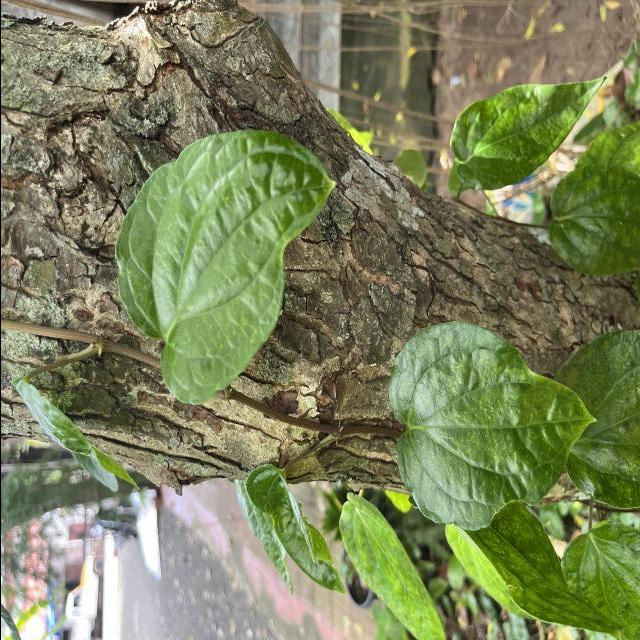Piper betle: (386, 316, 601, 534)
